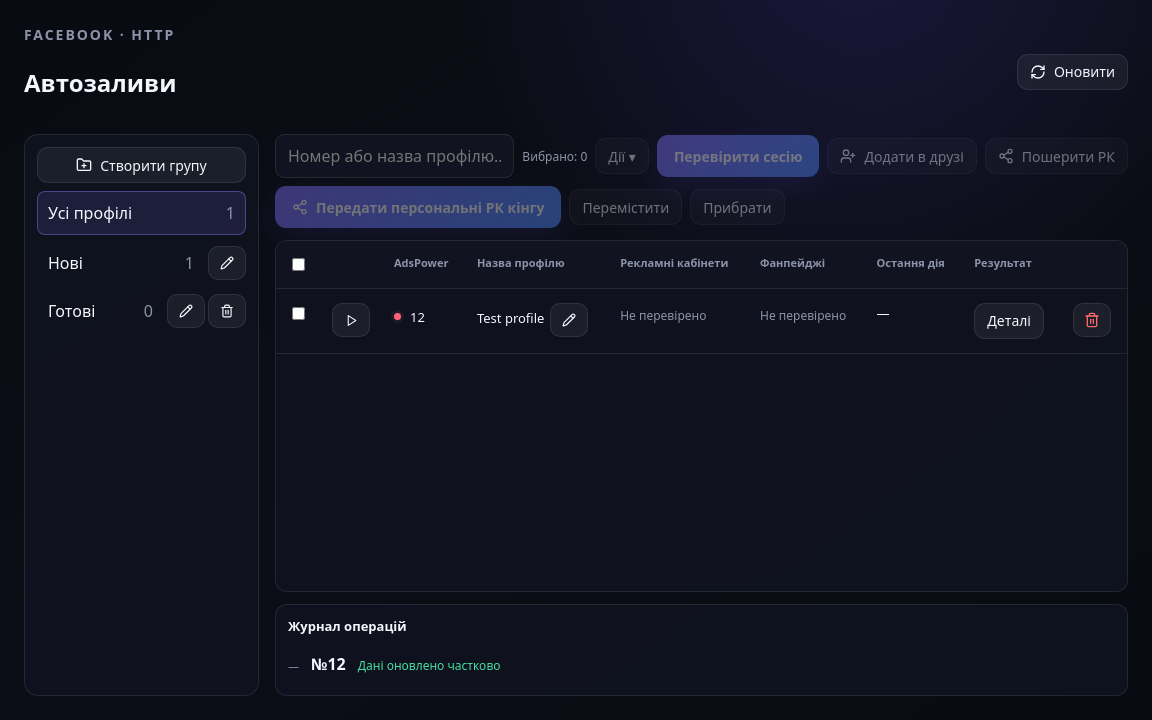
it: Автозаливи › показує точну причину часткового оновлення та мережевий код у деталях
Click the button "Деталі" at (1009, 321), box [974, 303, 1044, 339]
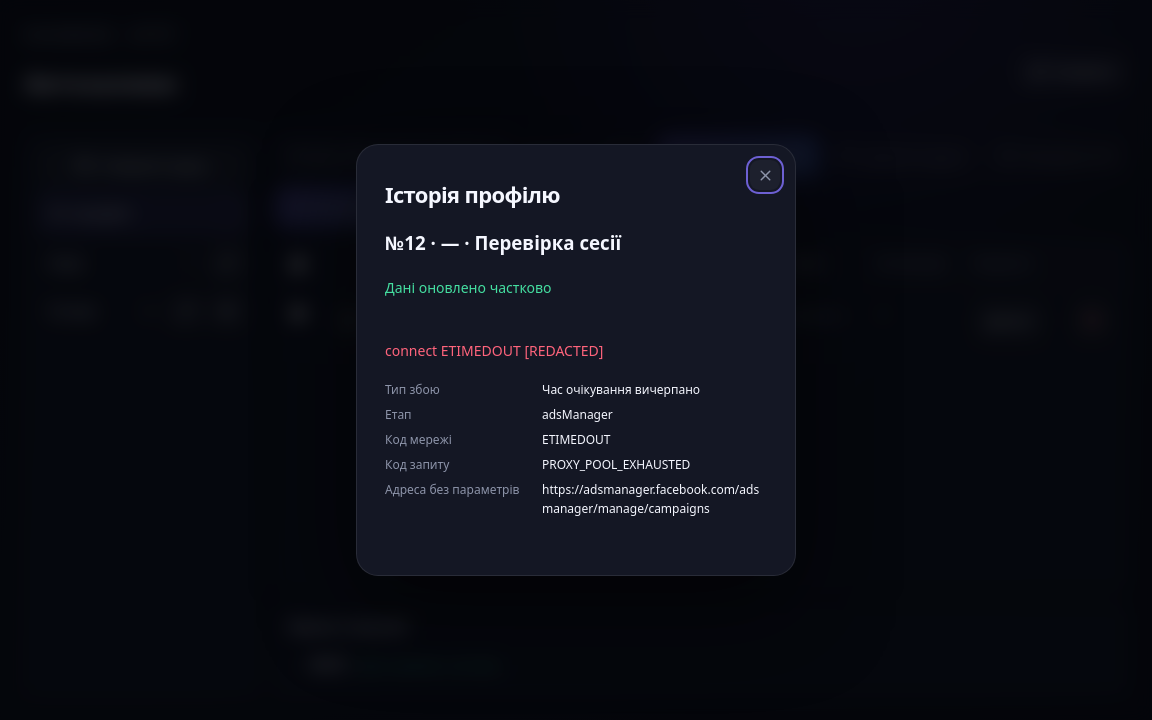
Expected: the dialog shows "Час очікування вичерпано", [542, 380, 700, 398]
Expected: the dialog shows "ETIMEDOUT", [542, 431, 610, 448]
Expected: the dialog shows "adsManager", [542, 406, 613, 423]
